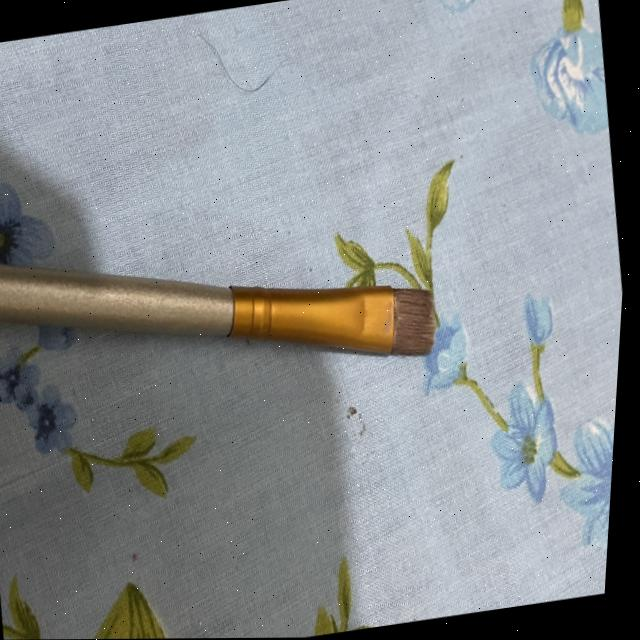brush: (0, 149, 491, 451)
